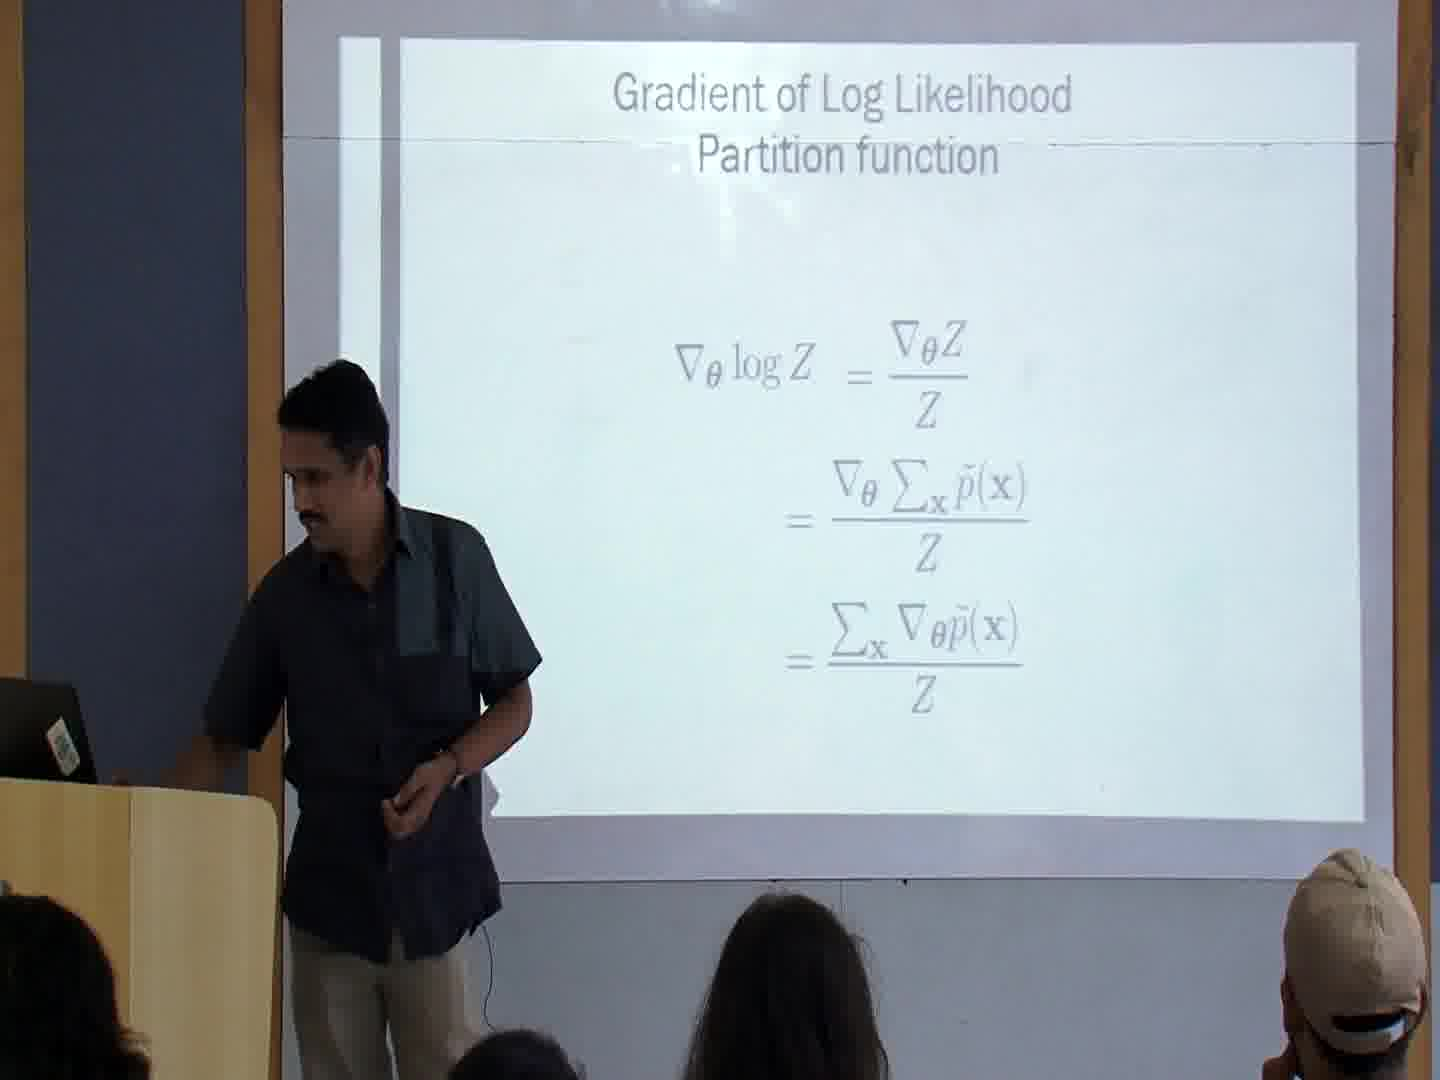eq: (668, 317, 972, 434), (783, 592, 1030, 723), (781, 450, 1035, 573)
